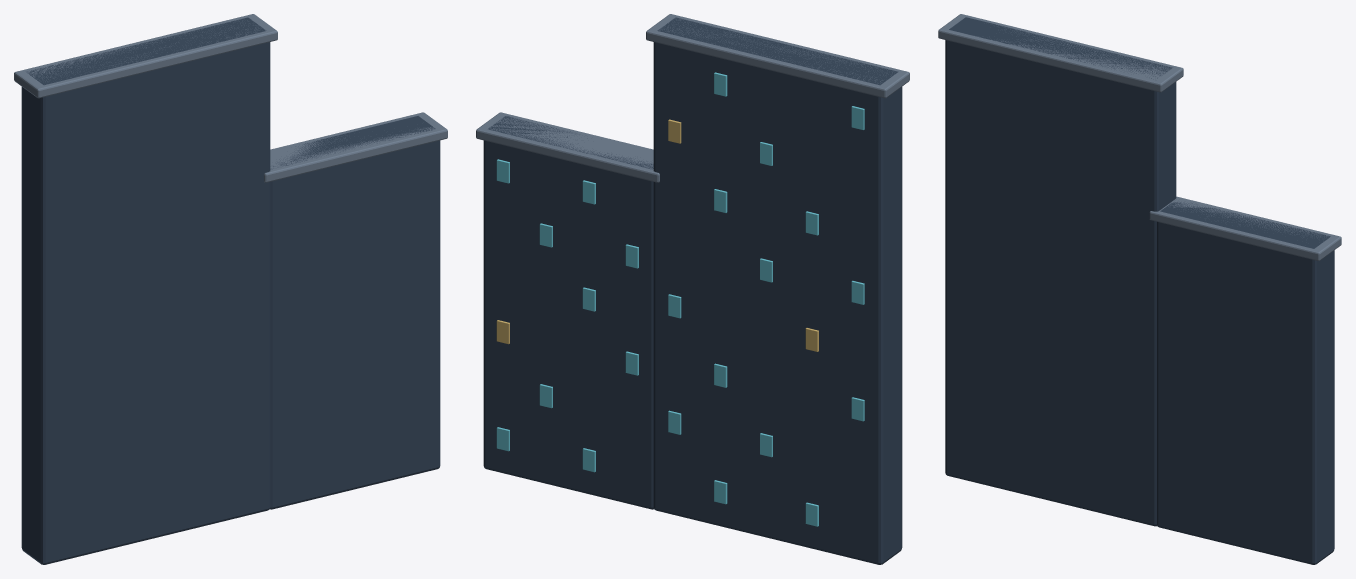
The model's file is CityCard_B.fbx.
3 renders of one model, left to right at view 1: azimuth 30°, elevation 25°; view 2: azimuth 150°, elevation 25°; view 3: azimuth 330°, elevation 25°, orthographic. The views are drawn at different scales.
Parts seen in each view (by area): view 1: CityCard_B; view 2: CityCard_B; view 3: CityCard_B.
Boxes of the visible parts, x1,y1,x2,y2 form: CityCard_B: (14, 14, 447, 564); CityCard_B: (476, 14, 909, 564); CityCard_B: (938, 14, 1341, 564).
Bounding box in the file's own units: 10.75 × 12 × 1.12.
